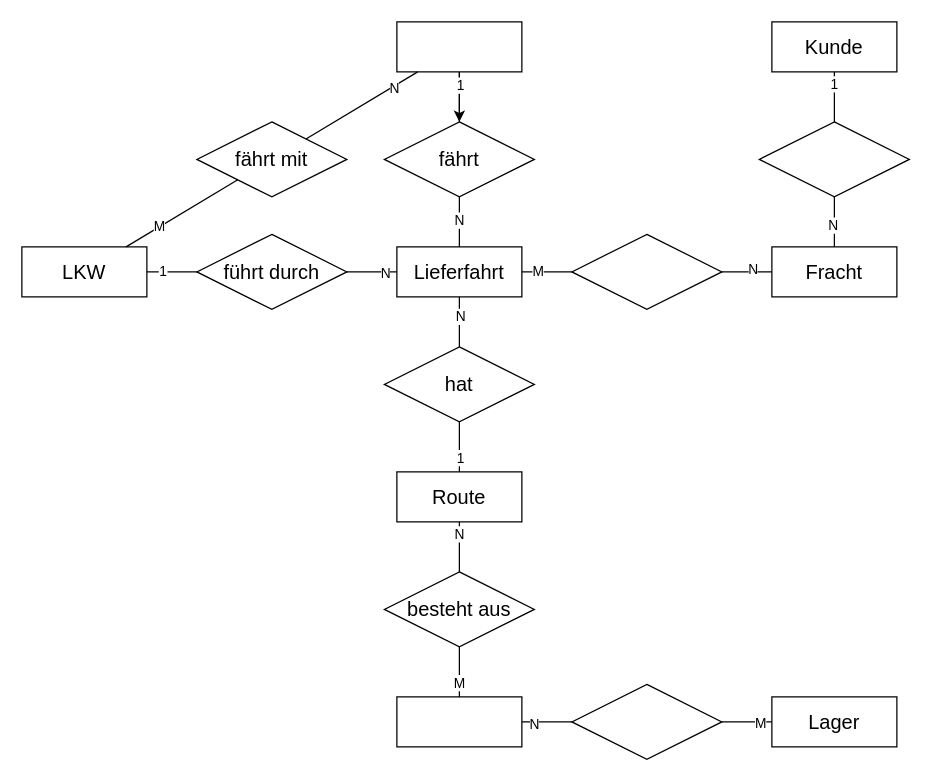
Image size: 931x781. Some labels were removed from this diagram. Here are the shapes that lost their labels. From the top down, the centre of each, then its label:
At point 459,46: "Fahrer".
At point 833,159: "von".
At point 646,271: "transportiert".
At point 459,721: "Strecke".
At point 646,721: "verbindet".
